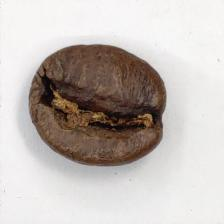NG: (36, 69, 159, 144)
